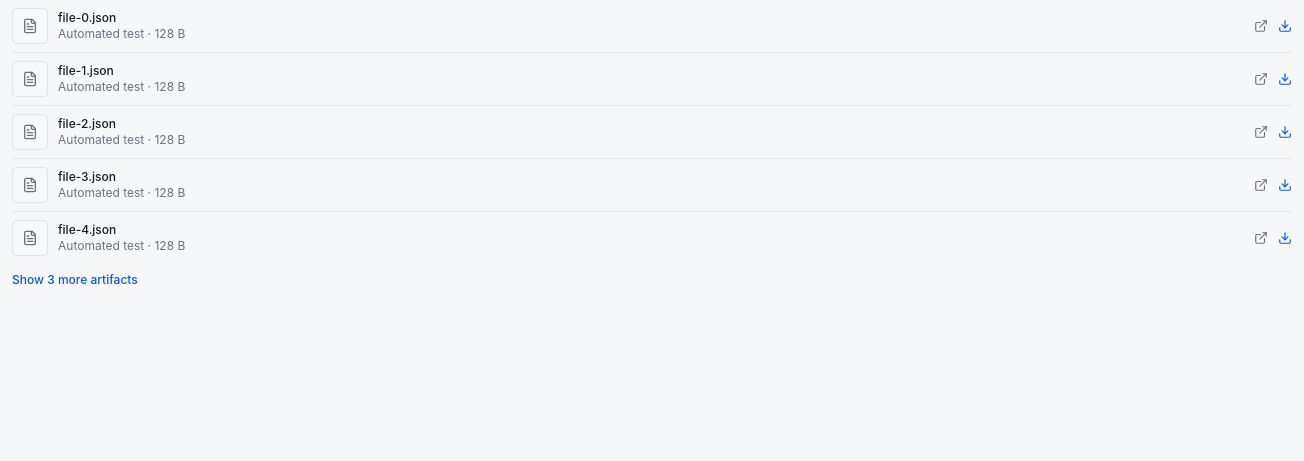
Test: the evidence rail › reveals every remaining artifact, in the order the run gave them
Click the button "Show 3 more artifacts".
click(75, 280)  # box [12, 272, 138, 288]
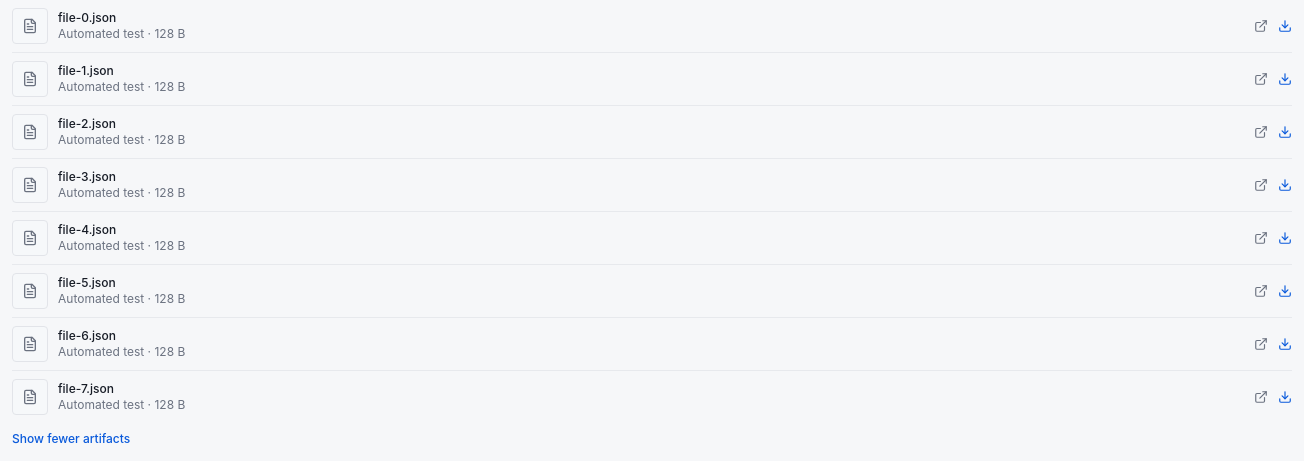
Check: the text "file-7.json" is shown, box [58, 381, 114, 396]
